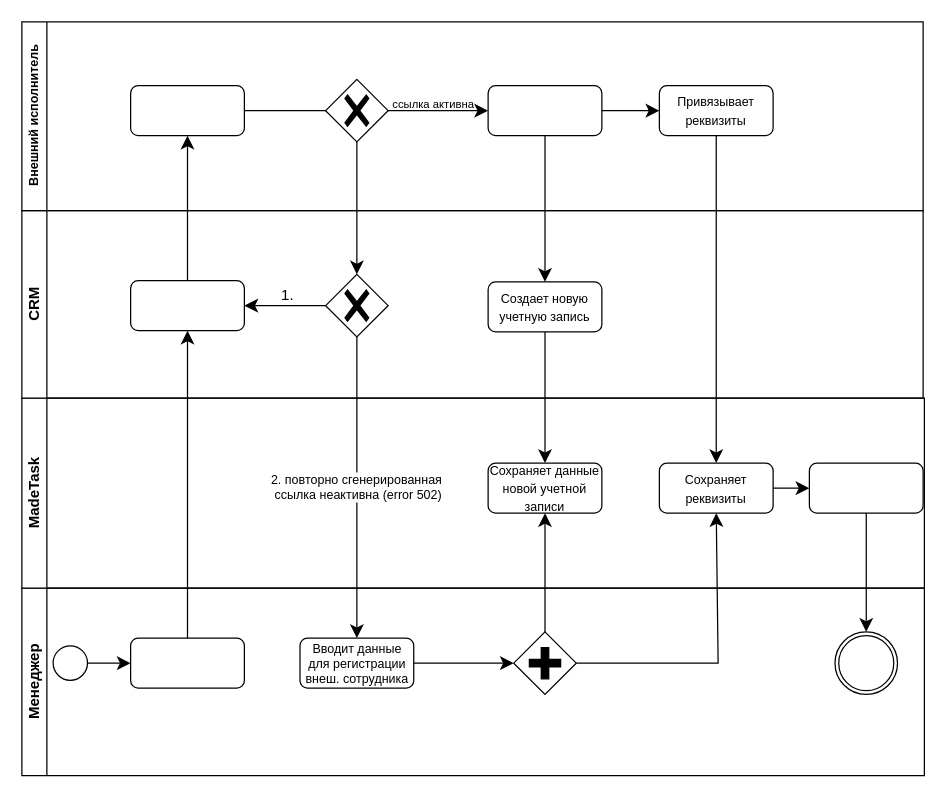
This 946x798 diagram has some shape labels left out. Each missing label, with the centre of its shape:
Генерирует ссылку на приглашение: (x=186, y=305)
Инициирует приглашение: (x=186, y=662)
Переходит по ссылке: (x=186, y=110)
Проверяет реквизиты в ФНС: (x=865, y=487)
Регистрируется: (x=544, y=110)
